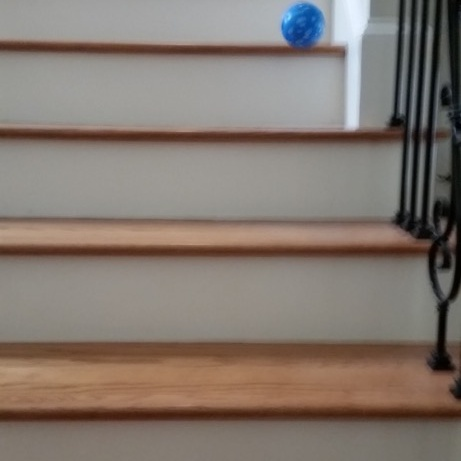ball: (276, 0, 328, 54)
